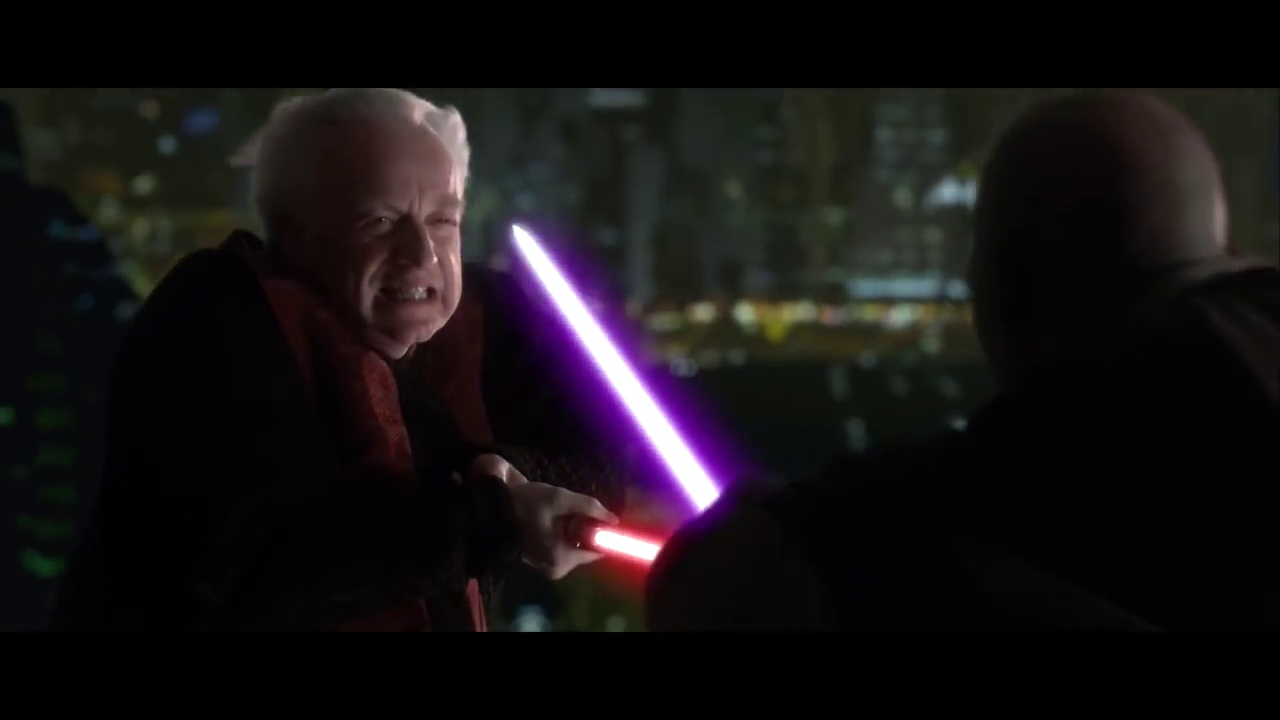lightsaber: (485, 236, 745, 521)
